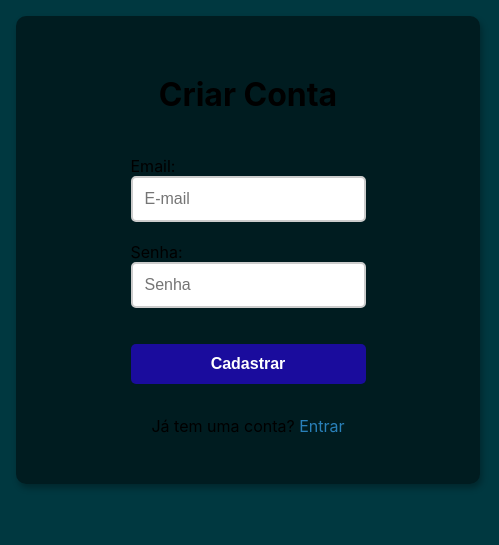
Test: Componente SignUp - Renderização e Interação (5 Testes de Unidade Pura) › 19/30: deve exibir mensagem de erro se o email já estiver cadastrado
Type "existente@teste.com" into the field labelled "Email:" at [248, 199], box x1=130 y1=176 x2=366 y2=222
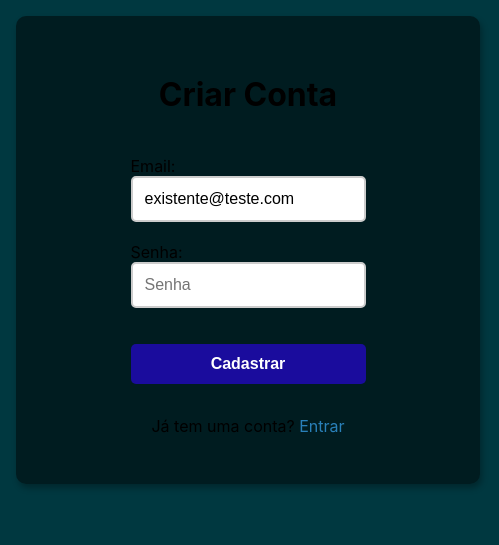
Type "novaSenhaLonga" into the password field labelled "Senha:" at [248, 285], box x1=130 y1=262 x2=366 y2=308
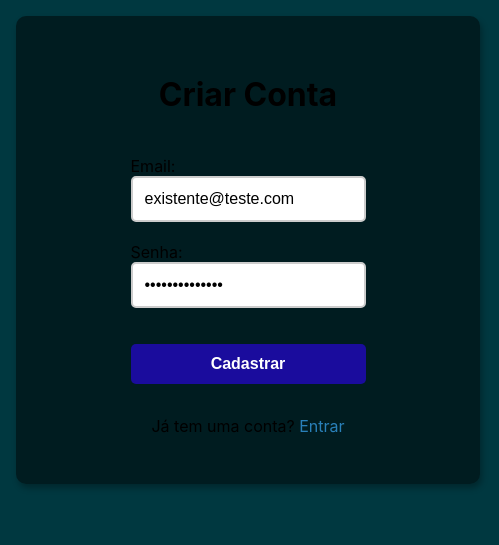
Click the button "Cadastrar" at [248, 364], box x1=130 y1=344 x2=366 y2=384
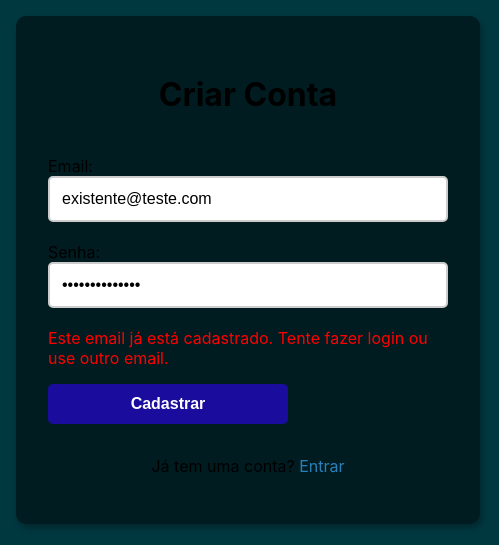
expect the text "Este email já está cadastrado." is shown: met, box x1=48 y1=328 x2=428 y2=368
